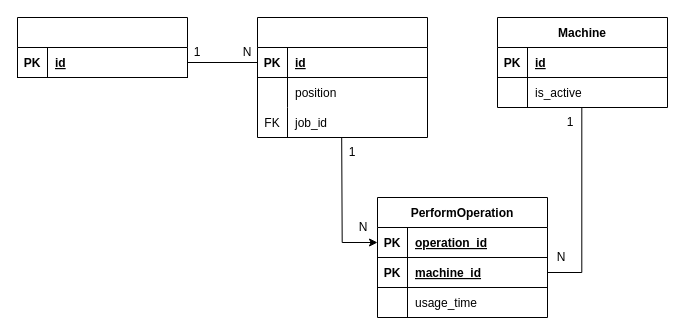
This 685x335 diagram has some shape labels left out. The shapes that lost their labels are listed below. From the top down, each one's box as (x1, y1, x2, y2) in pixels, then its label:
(16, 16, 188, 78): Job
(256, 16, 428, 138): Operation
